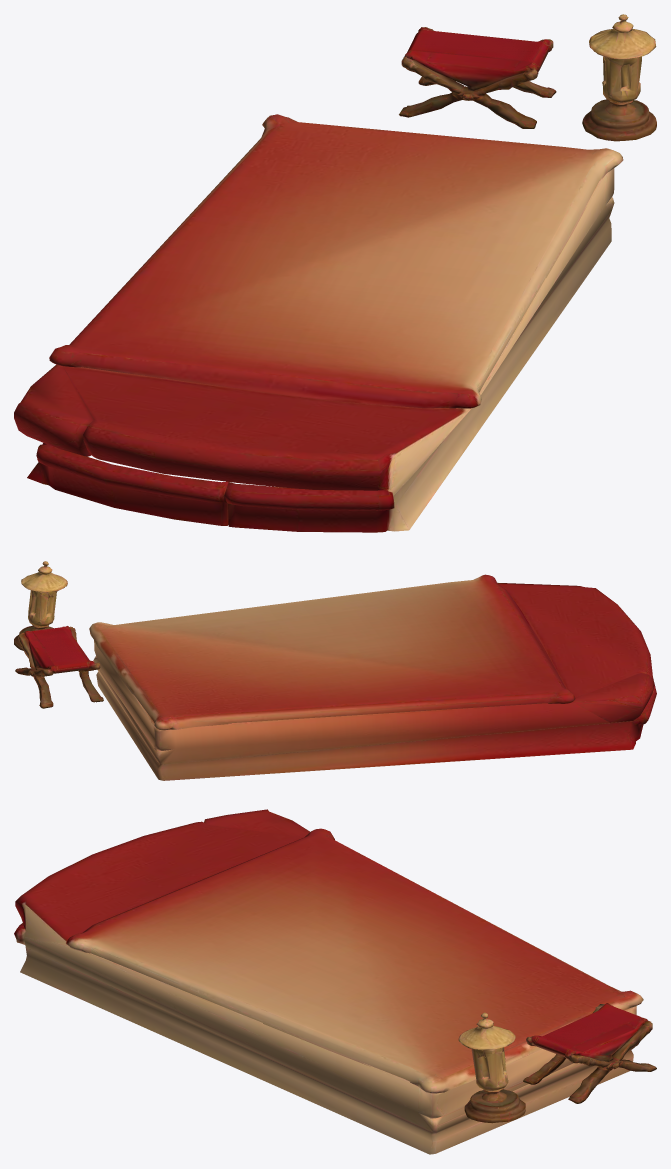
The model's file is base-masjid.78267fdd.glb.
The picture shows the model from 3 angles, top to bottom: view 1: azimuth 30°, elevation 25°; view 2: azimuth 150°, elevation 25°; view 3: azimuth 270°, elevation 25°; orthographic projection. The views are drawn at different scales.
Parts seen in each view (by area): view 1: tripo_node_2ec0d56d-49b5-4284-824e-e4de4224bb04; view 2: tripo_node_2ec0d56d-49b5-4284-824e-e4de4224bb04; view 3: tripo_node_2ec0d56d-49b5-4284-824e-e4de4224bb04.
Boxes of the visible parts, bbox=[...] form: tripo_node_2ec0d56d-49b5-4284-824e-e4de4224bb04: bbox=[14, 14, 656, 532]; tripo_node_2ec0d56d-49b5-4284-824e-e4de4224bb04: bbox=[14, 561, 656, 780]; tripo_node_2ec0d56d-49b5-4284-824e-e4de4224bb04: bbox=[14, 809, 656, 1154].
Bounding box in the file's own units: 0.998 × 0.2356 × 0.8613.
1 material, 1 textured.
